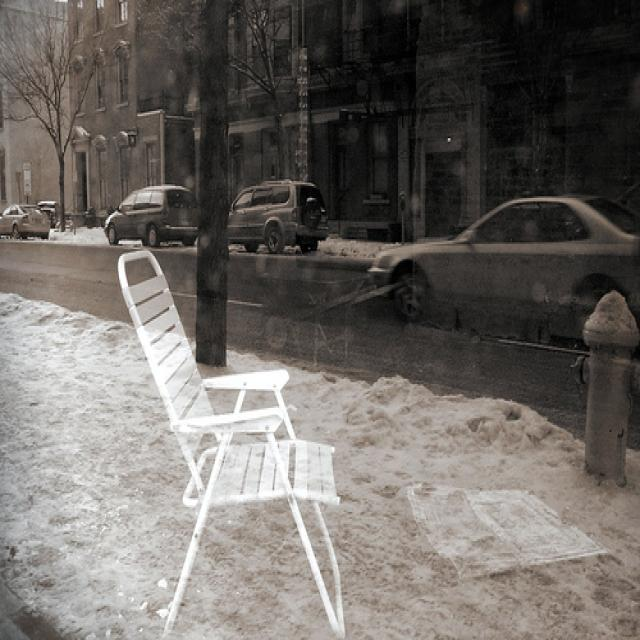Vehicle: (371, 199, 640, 334), (229, 181, 331, 255), (104, 184, 199, 247), (0, 203, 52, 239)
